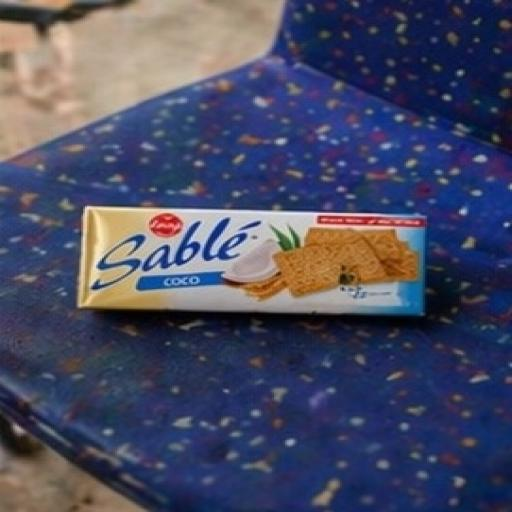sable: (24, 144, 482, 375)
